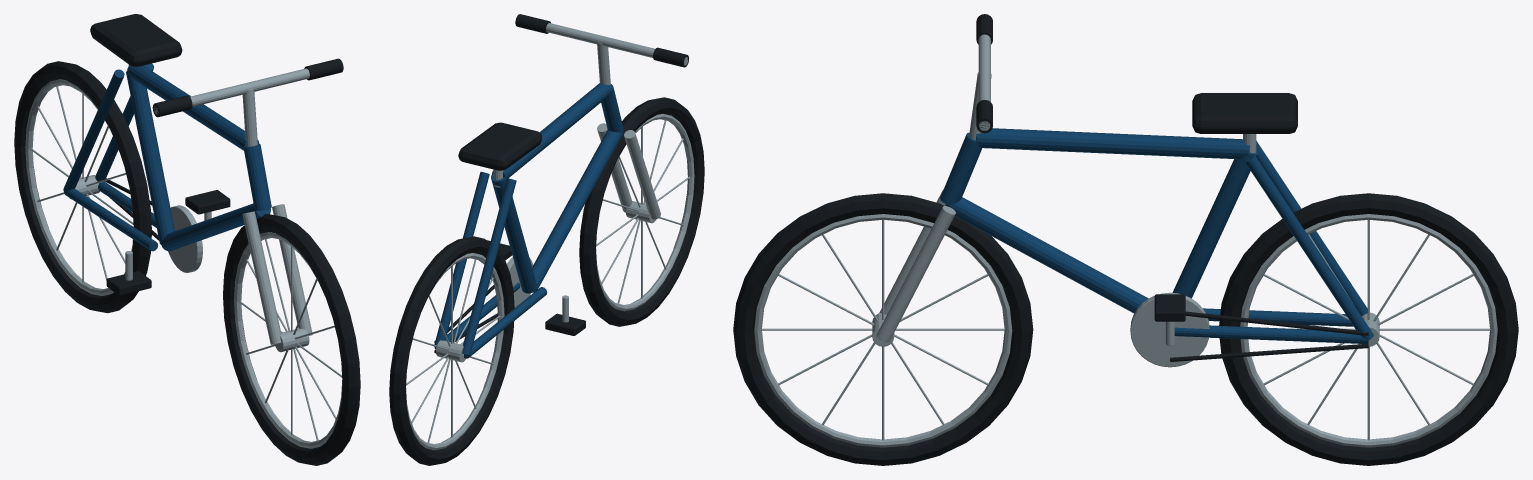
File: edited.glb
3 views of the same model, side by side, from view 1: azimuth 30°, elevation 25°; view 2: azimuth 150°, elevation 25°; view 3: azimuth 270°, elevation 25° (orthographic). The views are drawn at different scales.
Parts seen in each view (by area): view 1: TYRE, TYRE.001, SADDLE, FRAME_SEAT_Tube, RIM.001, RIM, FRAME_TOP_Tube, SPOKES, FRONT_Fork, FRAME_DOWN_Tube, SPOKES.001, REAR_SeatStay (+13 smaller); view 2: TYRE.001, TYRE, FRAME_DOWN_Tube, SADDLE, RIM.001, REAR_SeatStay, RIM, FRAME_TOP_Tube, FRAME_SEAT_Tube, SPOKES.001, SPOKES, REAR_SeatStay.001 (+13 smaller); view 3: TYRE, TYRE.001, RIM.001, RIM, FRAME_TOP_Tube, FRAME_DOWN_Tube, SADDLE, CHAINRING, SPOKES, FRAME_SEAT_Tube, SPOKES.001, REAR_SeatStay.001 (+10 smaller).
Boxes of the visible parts, box(x1,y1,x2,y2) form: TYRE: box(223, 214, 360, 465); TYRE.001: box(14, 61, 151, 313); SADDLE: box(90, 14, 182, 66); FRAME_SEAT_Tube: box(126, 71, 174, 244); RIM.001: box(234, 232, 342, 448); RIM: box(25, 79, 133, 295); FRAME_TOP_Tube: box(127, 65, 259, 150); SPOKES: box(238, 239, 341, 440); FRONT_Fork: box(242, 211, 281, 344); FRAME_DOWN_Tube: box(161, 203, 270, 251); SPOKES.001: box(30, 86, 133, 282); REAR_SeatStay: box(63, 69, 124, 191); TYRE.001: box(389, 236, 514, 465); TYRE: box(579, 97, 704, 326); FRAME_DOWN_Tube: box(532, 130, 622, 292); SADDLE: box(458, 122, 542, 170); RIM.001: box(596, 114, 694, 311); REAR_SeatStay: box(462, 178, 516, 355); RIM: box(406, 253, 504, 450); FRAME_TOP_Tube: box(492, 83, 612, 178); FRAME_SEAT_Tube: box(491, 174, 536, 293); SPOKES.001: box(406, 259, 500, 442); SPOKES: box(596, 120, 690, 303); REAR_SeatStay.001: box(434, 171, 489, 347); TYRE: box(733, 193, 1033, 465); TYRE.001: box(1219, 193, 1518, 465); RIM.001: box(754, 214, 1012, 447); RIM: box(1240, 214, 1497, 447); FRAME_TOP_Tube: box(976, 128, 1249, 159); FRAME_DOWN_Tube: box(945, 197, 1148, 313); SADDLE: box(1192, 93, 1297, 133); CHAINRING: box(1130, 292, 1209, 367); SPOKES: box(761, 219, 1004, 440); FRAME_SEAT_Tube: box(1172, 150, 1258, 298); SPOKES.001: box(1263, 219, 1490, 440); REAR_SeatStay.001: box(1244, 154, 1373, 340).
Bounding box in the file's own units: 0.56 × 0.999 × 1.78.
